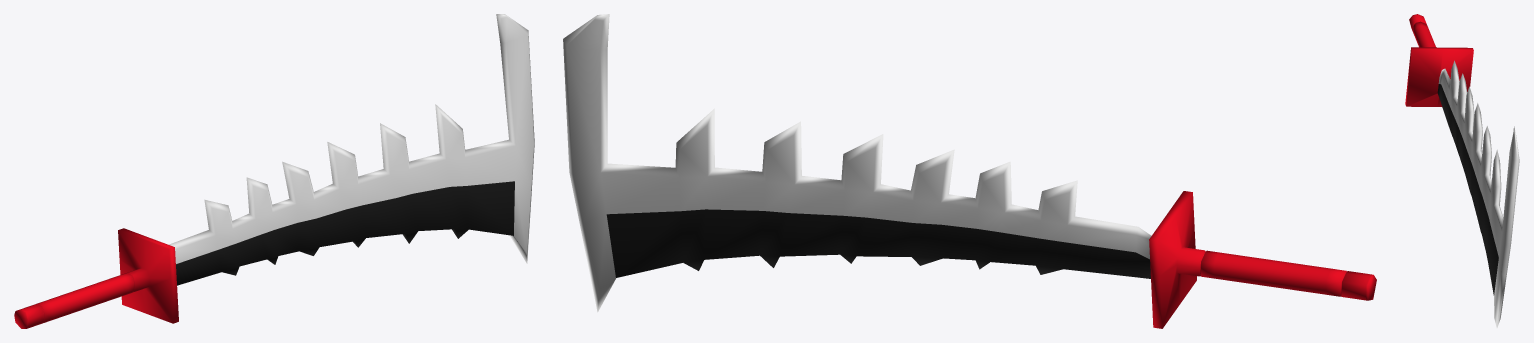
The model's file is zabimaru-by-shizvayne-aYO9SI2OBuU.glb.
3 views of the same model, side by side, from view 1: azimuth 30°, elevation 25°; view 2: azimuth 150°, elevation 25°; view 3: azimuth 270°, elevation 25° (orthographic). The views are drawn at different scales.
Visible parts, largest first — view 1: Cube_Cube.001; view 2: Cube_Cube.001; view 3: Cube_Cube.001.
Boxes of the visible parts, x1=… form: Cube_Cube.001: x1=14, y1=14, x2=534, y2=328; Cube_Cube.001: x1=563, y1=14, x2=1376, y2=328; Cube_Cube.001: x1=1405, y1=14, x2=1519, y2=327.
Bounding box in the file's own units: 4.07 × 1.68 × 0.8917.
